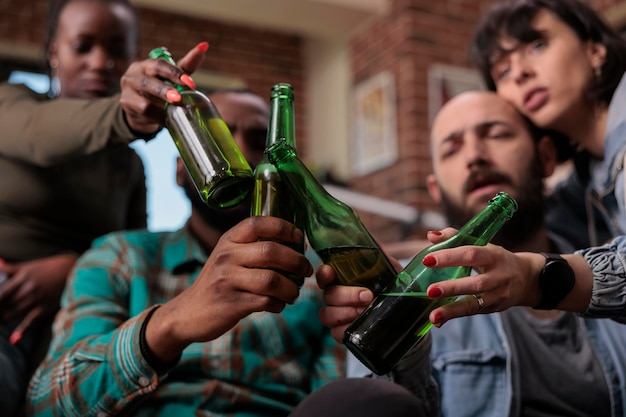alcohol: (344, 192, 521, 376), (264, 139, 430, 332), (147, 44, 255, 211), (250, 83, 309, 304)
